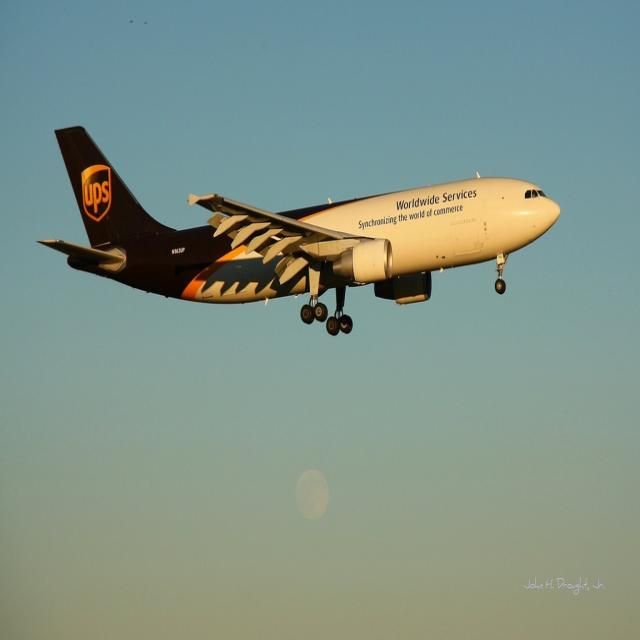ups: (82, 165, 113, 224)
